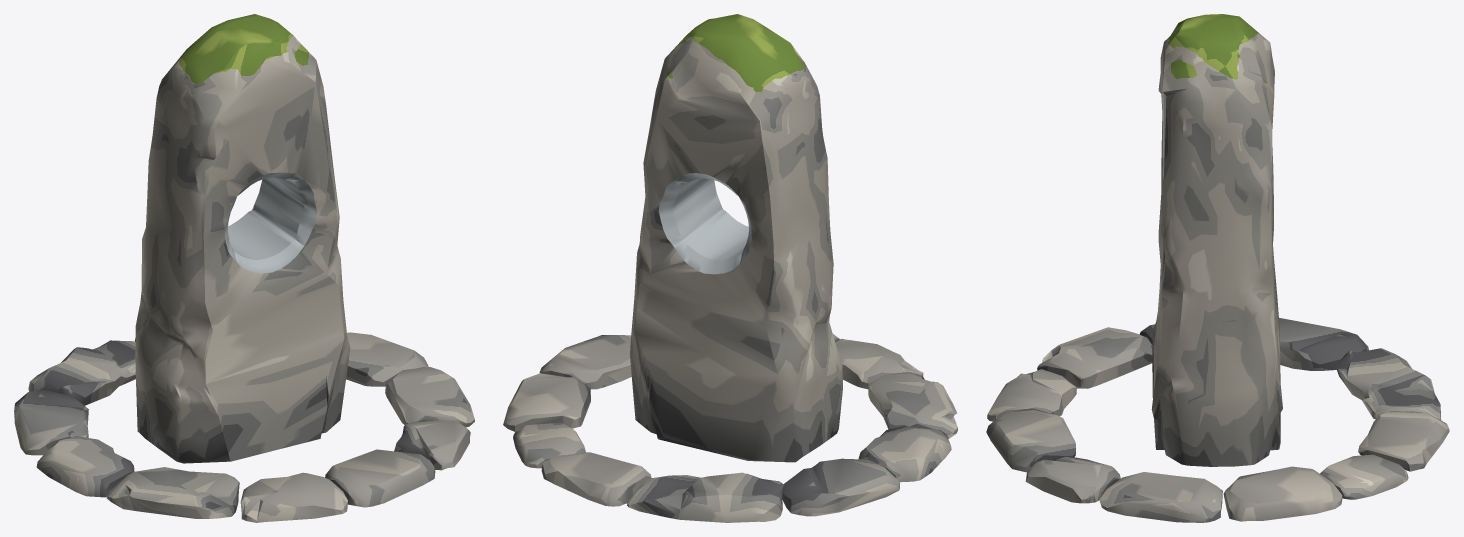
File: standing_stone.glb
The picture shows the model from 3 angles, left to right: view 1: azimuth 30°, elevation 25°; view 2: azimuth 150°, elevation 25°; view 3: azimuth 270°, elevation 25°; orthographic projection.
Parts seen in each view (by area): view 1: StandingStone; view 2: StandingStone; view 3: StandingStone.
Boxes of the visible parts, bbox=[...] form: StandingStone: bbox=[14, 14, 474, 522]; StandingStone: bbox=[503, 14, 957, 522]; StandingStone: bbox=[986, 14, 1449, 522].
Size of the model in its own units: 1.62 by 1.57 by 1.62.
Materials: 2 (1 with a texture image).
